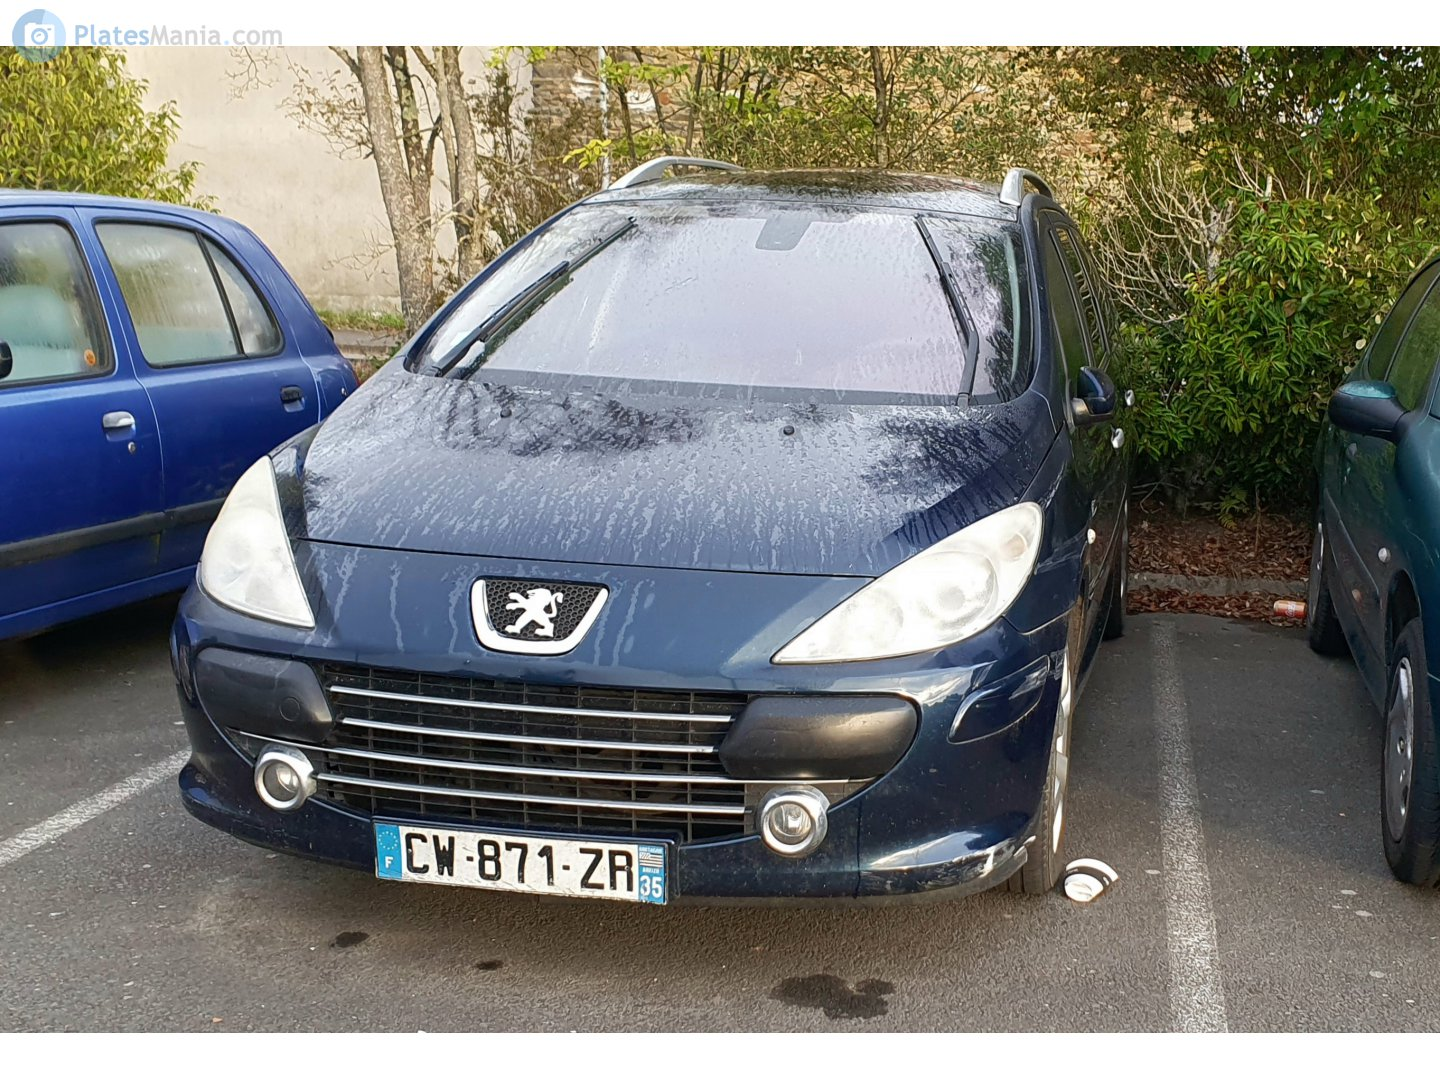licence plate: (367, 811, 675, 909)
